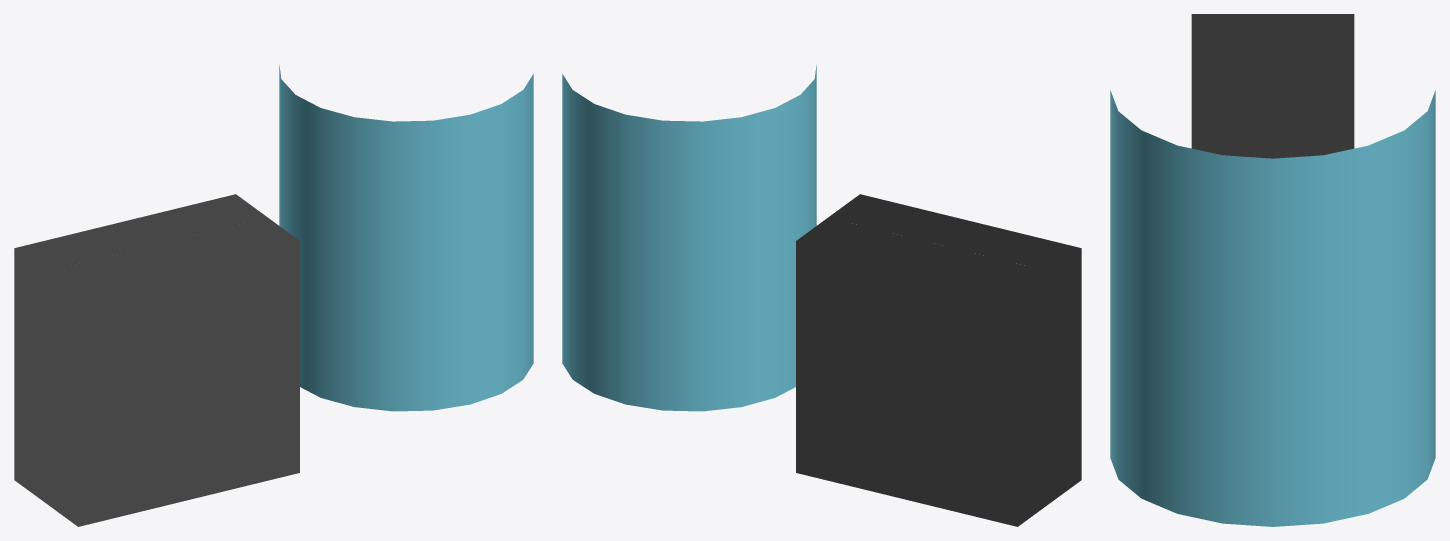
File: rectifier_circuit.glb
3 views of the same model, side by side, from view 1: azimuth 30°, elevation 25°; view 2: azimuth 150°, elevation 25°; view 3: azimuth 270°, elevation 25° (orthographic). The views are drawn at different scales.
Parts seen in each view (by area): view 1: BridgeICPackage, SmoothingCapacitorCan; view 2: BridgeICPackage, SmoothingCapacitorCan; view 3: SmoothingCapacitorCan, BridgeICPackage.
Part boxes in pixels (bbox=[...]): BridgeICPackage: bbox=[14, 194, 299, 526]; SmoothingCapacitorCan: bbox=[279, 65, 533, 411]; BridgeICPackage: bbox=[796, 194, 1081, 526]; SmoothingCapacitorCan: bbox=[562, 65, 816, 411]; SmoothingCapacitorCan: bbox=[1110, 90, 1435, 526]; BridgeICPackage: bbox=[1191, 14, 1354, 158].
Size of the model in its own units: 1.7 by 1.2 by 0.8.
